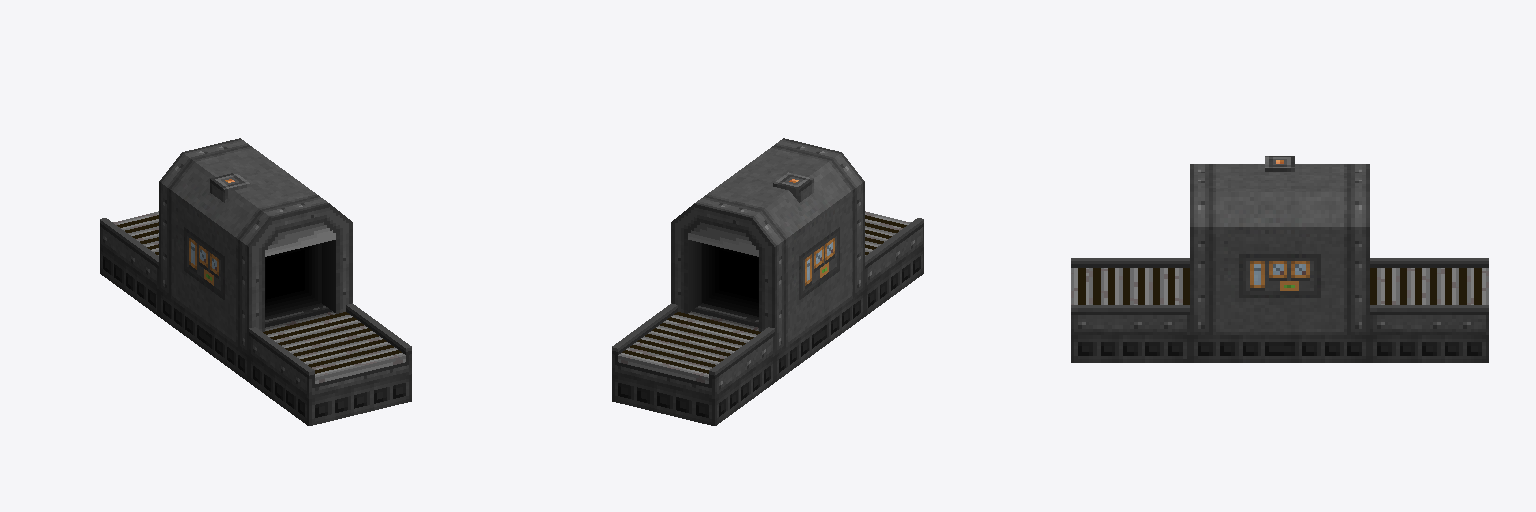
The picture shows the model from 3 angles: view 1: azimuth 30°, elevation 25°; view 2: azimuth 150°, elevation 25°; view 3: azimuth 270°, elevation 25°; orthographic projection.
Parts seen in each view (by area): view 1: Cube.001_Cube, Cube_Cube.001, Cube.002_Cube.001; view 2: Cube.001_Cube, Cube.002_Cube.001, Cube_Cube.001; view 3: Cube.001_Cube, Cube_Cube.001, Cube.002_Cube.001.
Boxes of the visible parts, <box> form: Cube.001_Cube: <box>159,138,352,381</box>; Cube_Cube.001: <box>249,303,411,425</box>; Cube.002_Cube.001: <box>100,211,158,316</box>; Cube.001_Cube: <box>671,138,864,381</box>; Cube.002_Cube.001: <box>612,303,774,425</box>; Cube_Cube.001: <box>865,211,923,316</box>; Cube.001_Cube: <box>1190,156,1369,362</box>; Cube_Cube.001: <box>1071,258,1189,362</box>; Cube.002_Cube.001: <box>1370,258,1488,362</box>.
Size of the model in its own units: 2 by 3 by 7.
Materials: 1 (1 with a texture image).